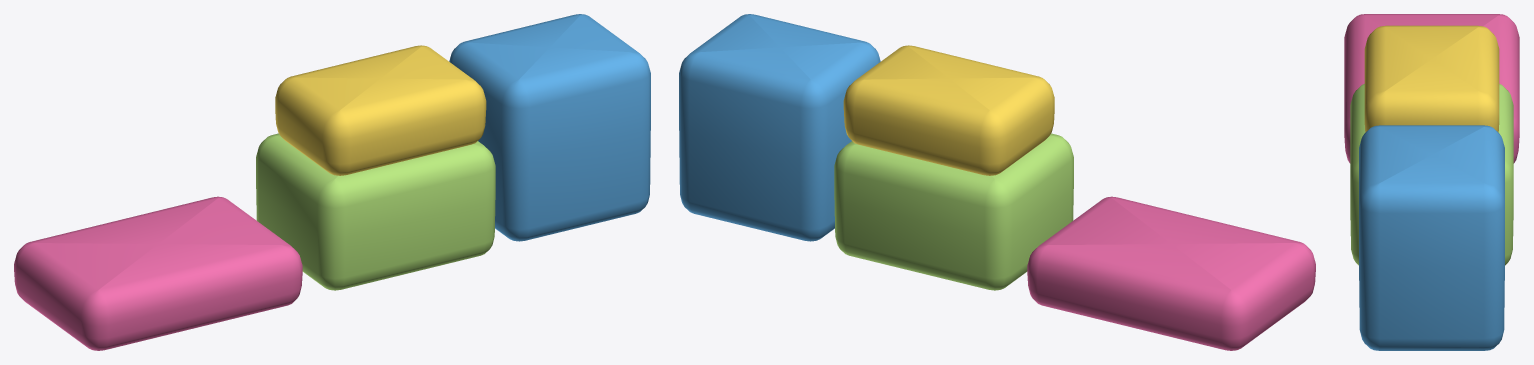
Rendered from trampoline-park-and-soft-play-padded-step-block-set-9e83671b__34624.glb.
The picture shows the model from 3 angles, left to right: view 1: azimuth 30°, elevation 25°; view 2: azimuth 150°, elevation 25°; view 3: azimuth 270°, elevation 25°; orthographic projection. The views are drawn at different scales.
Visible parts, largest first — view 1: padded-step-block-set; view 2: padded-step-block-set; view 3: padded-step-block-set.
Part boxes in pixels (bbox=[...]): padded-step-block-set: bbox=[14, 14, 650, 350]; padded-step-block-set: bbox=[679, 14, 1315, 350]; padded-step-block-set: bbox=[1344, 14, 1519, 350].
Bounding box in the file's own units: 2.38 × 0.672 × 0.606.
